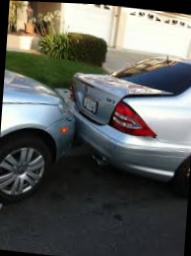Dickey: (71, 72, 177, 128)
